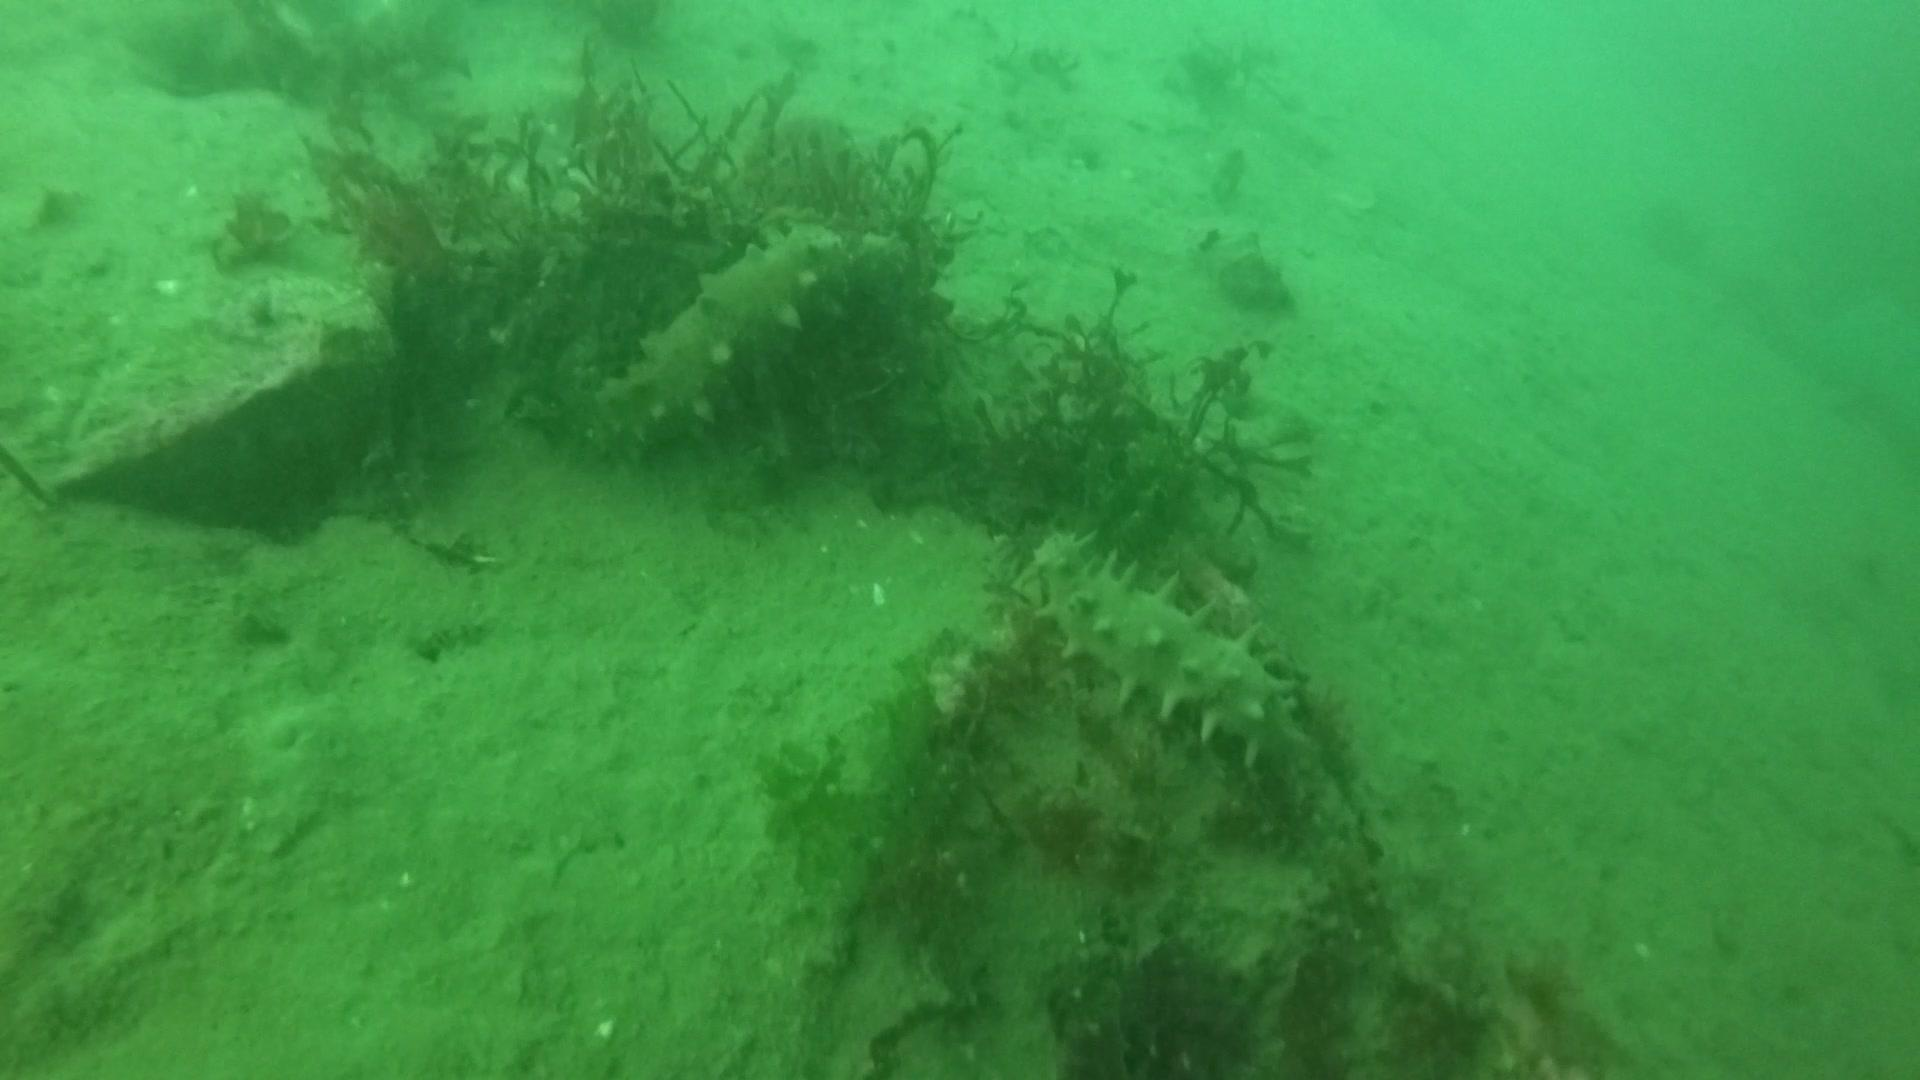holothurian: (1009, 527, 1309, 782), (599, 208, 866, 436)
